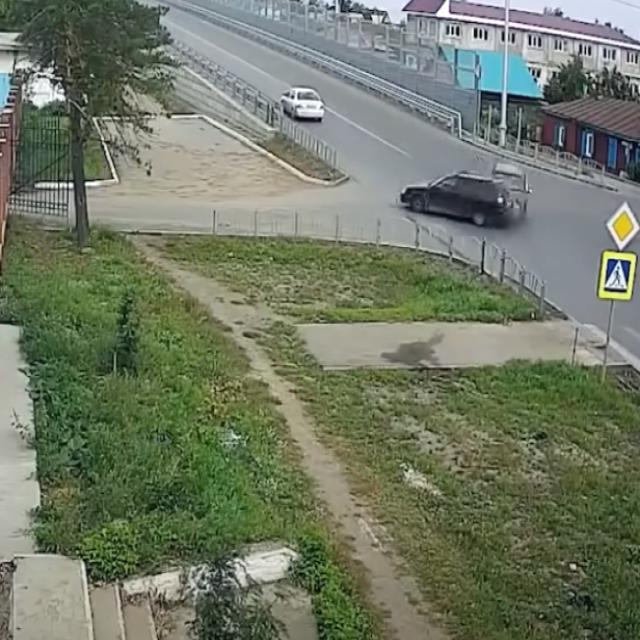accident: (397, 160, 533, 230)
